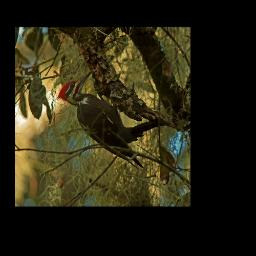Woodpecker: (57, 71, 146, 170)
